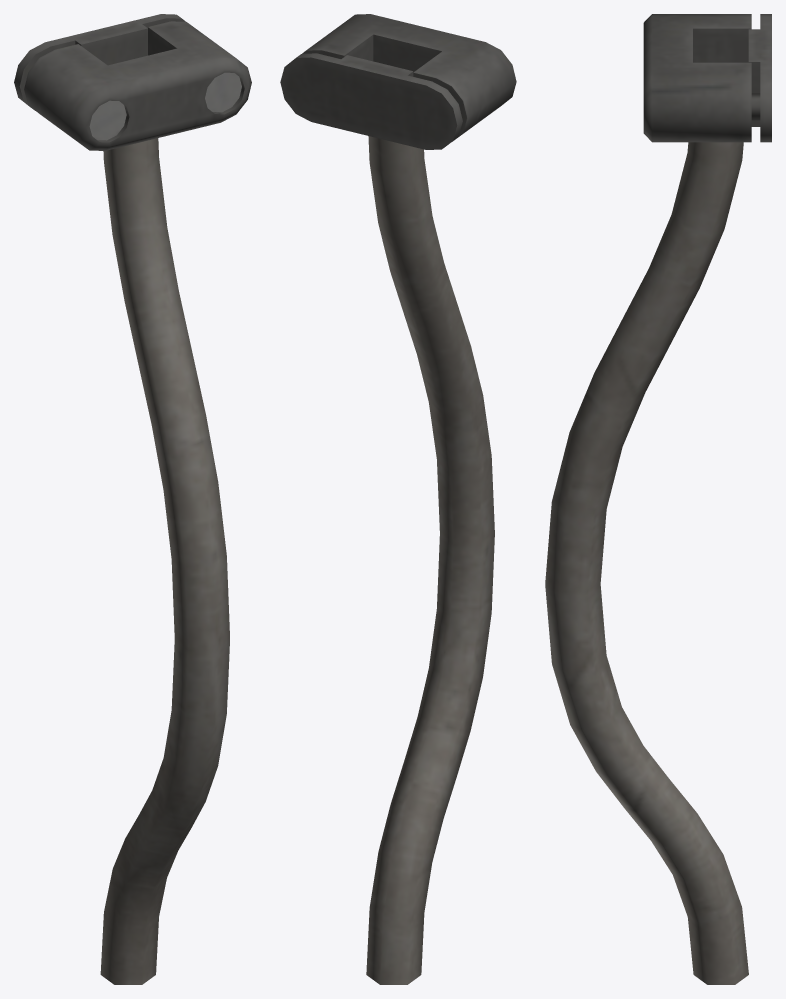
The model's file is cable_cable_bridge_1.fbx.
3 views of the same model, side by side, from view 1: azimuth 30°, elevation 25°; view 2: azimuth 150°, elevation 25°; view 3: azimuth 270°, elevation 25° (orthographic).
Visible parts, largest first — view 1: modular_electric_cables__cable_bridge_1; view 2: modular_electric_cables__cable_bridge_1; view 3: modular_electric_cables__cable_bridge_1.
Boxes of the visible parts, left/top/right/bottom form: modular_electric_cables__cable_bridge_1: left=14, top=14, right=251, bottom=984; modular_electric_cables__cable_bridge_1: left=280, top=14, right=516, bottom=984; modular_electric_cables__cable_bridge_1: left=545, top=14, right=771, bottom=984.
Size of the model in its own units: 0.0416 by 0.2073 by 0.0458.
